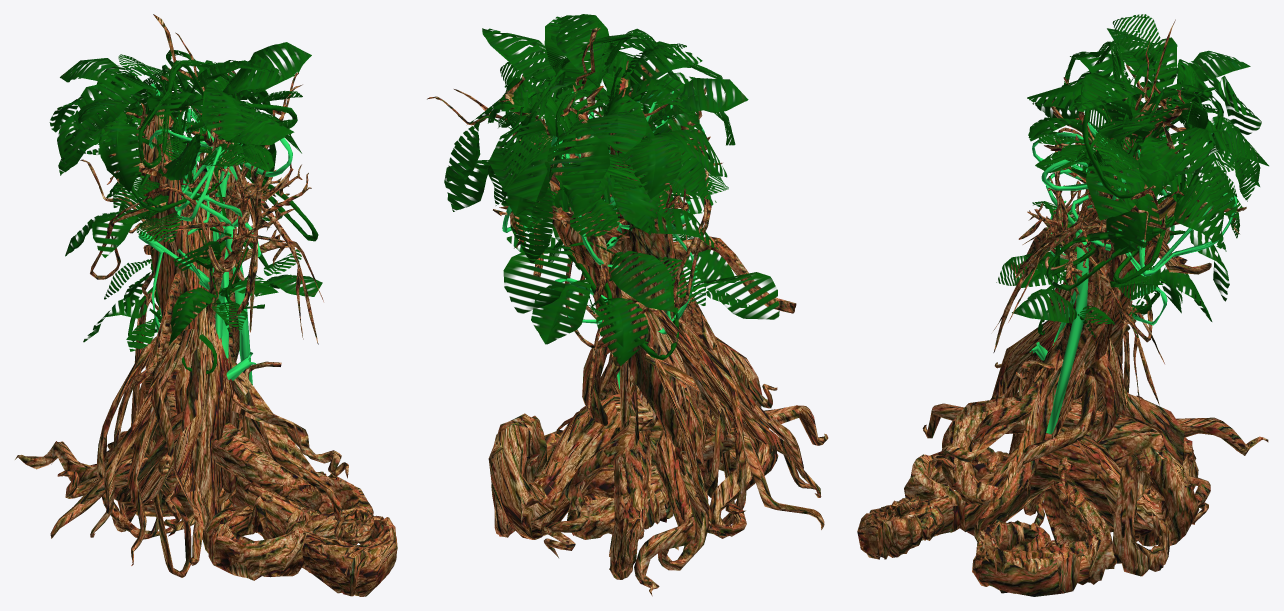
The model's file is 2worldtree.two.glb.
3 views of the same model, side by side, from view 1: azimuth 30°, elevation 25°; view 2: azimuth 150°, elevation 25°; view 3: azimuth 270°, elevation 25° (orthographic). The views are drawn at different scales.
Visible parts, largest first — view 1: plant.001, leaf_010_mesh.005, leaf_010_mesh.106, coral.001; view 2: plant.001, leaf_010_mesh.005, leaf_010_mesh.106, coral.001; view 3: plant.001, leaf_010_mesh.005, leaf_010_mesh.106, coral.001.
Boxes of the visible parts, left/top/right/bottom form: plant.001: left=15, top=14, right=397, bottom=596; leaf_010_mesh.005: left=58, top=42, right=318, bottom=374; leaf_010_mesh.106: left=49, top=54, right=322, bottom=351; coral.001: left=80, top=72, right=323, bottom=471; plant.001: left=474, top=27, right=828, bottom=596; leaf_010_mesh.005: left=444, top=14, right=726, bottom=360; leaf_010_mesh.106: left=498, top=41, right=779, bottom=365; coral.001: left=427, top=89, right=796, bottom=434; plant.001: left=857, top=19, right=1268, bottom=596; leaf_010_mesh.005: left=1027, top=40, right=1268, bottom=335; leaf_010_mesh.106: left=996, top=14, right=1261, bottom=337; coral.001: left=993, top=127, right=1187, bottom=434.
Size of the model in its own units: 1.11 by 1.76 by 1.27.
Materials: 9 (7 with a texture image).
